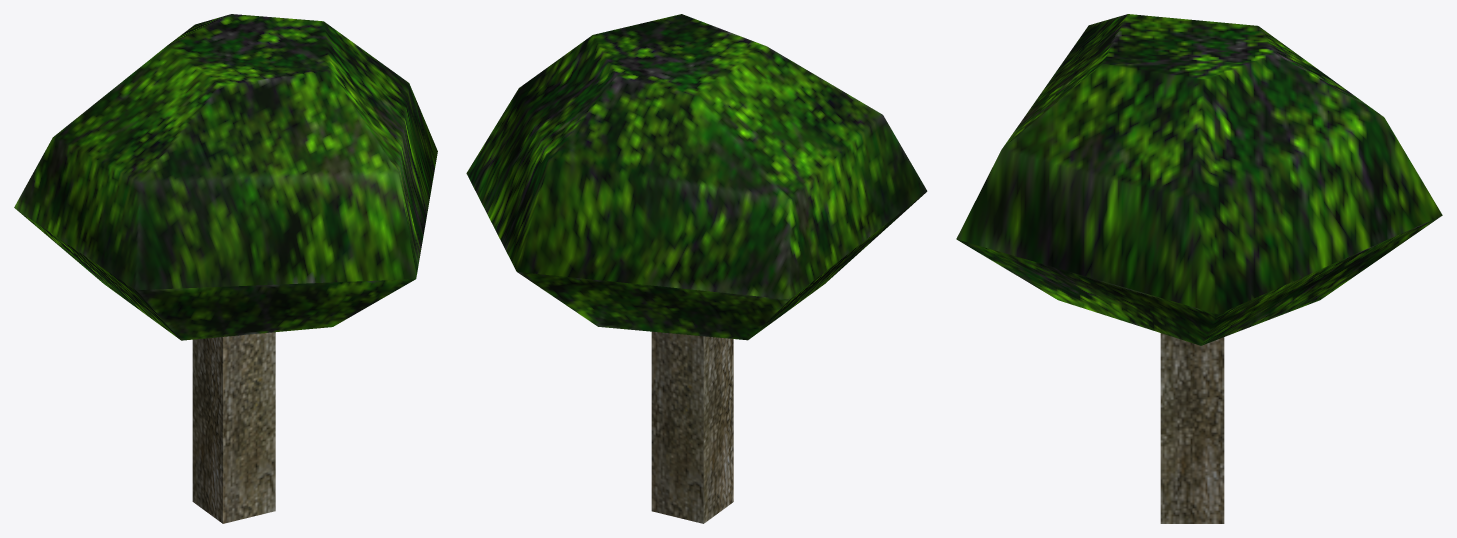
The model's file is SurroundingEnvironment_Tree.fbx.
The picture shows the model from 3 angles, left to right: view 1: azimuth 30°, elevation 25°; view 2: azimuth 150°, elevation 25°; view 3: azimuth 270°, elevation 25°; orthographic projection. The views are drawn at different scales.
Parts seen in each view (by area): view 1: SurroundingEnvironment_Tree:SurroundingEnvironment_Tree:LowP; view 2: SurroundingEnvironment_Tree:SurroundingEnvironment_Tree:LowP; view 3: SurroundingEnvironment_Tree:SurroundingEnvironment_Tree:LowP.
Boxes of the visible parts, bbox=[...] form: SurroundingEnvironment_Tree:SurroundingEnvironment_Tree:LowP: bbox=[14, 14, 437, 523]; SurroundingEnvironment_Tree:SurroundingEnvironment_Tree:LowP: bbox=[466, 14, 927, 523]; SurroundingEnvironment_Tree:SurroundingEnvironment_Tree:LowP: bbox=[956, 14, 1442, 523].
Bounding box in the file's own units: 531 × 605 × 558.
